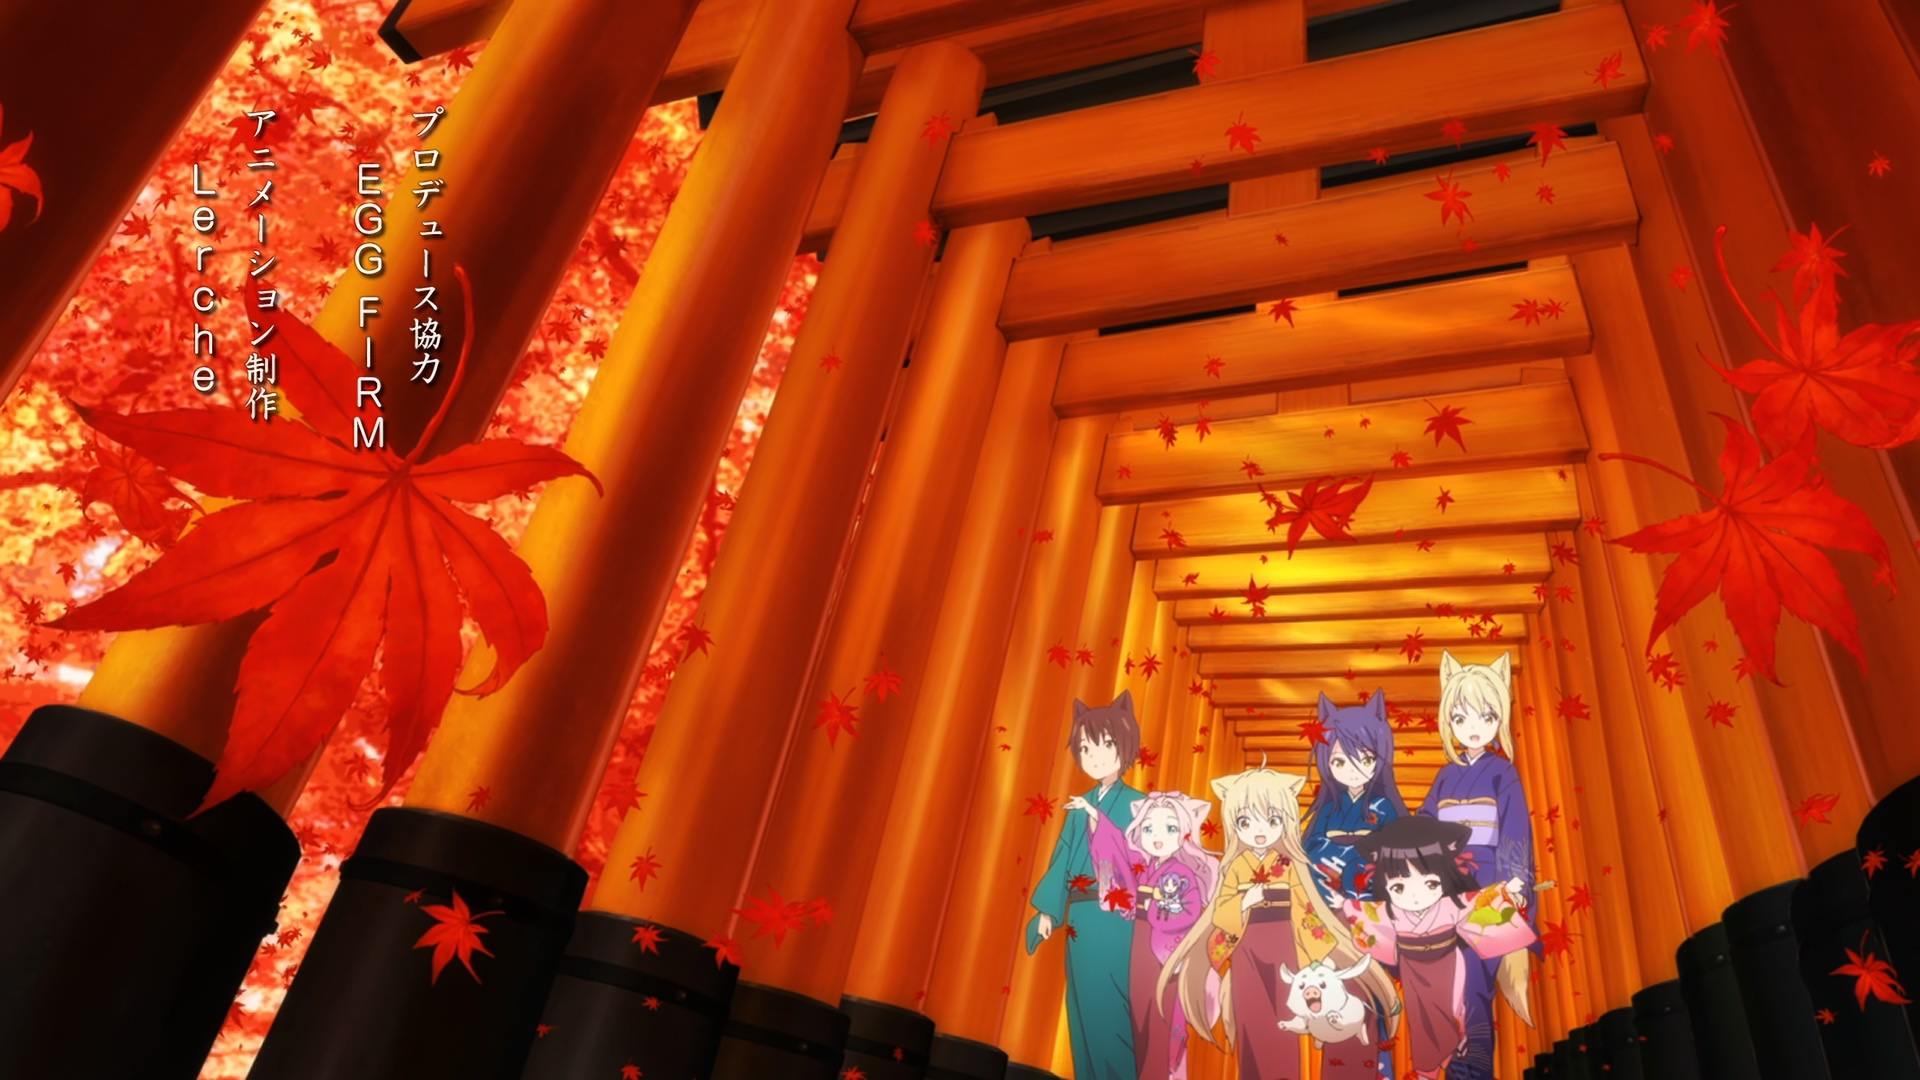枣: (1026, 688, 1151, 1080)
柚: (1154, 753, 1400, 1080)
桐: (1414, 649, 1540, 1080)
樱: (1327, 818, 1539, 1080)
瓜之介: (1276, 953, 1371, 1048)
皋: (1302, 687, 1412, 1080)
莲: (1064, 790, 1222, 1080)
阿菊: (1156, 873, 1189, 922)
